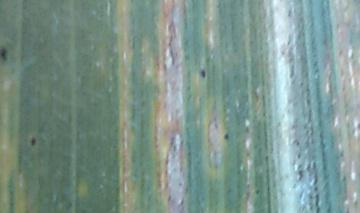tarspot: (1, 48, 8, 62), (222, 132, 231, 141), (199, 69, 207, 79), (30, 138, 37, 147)
